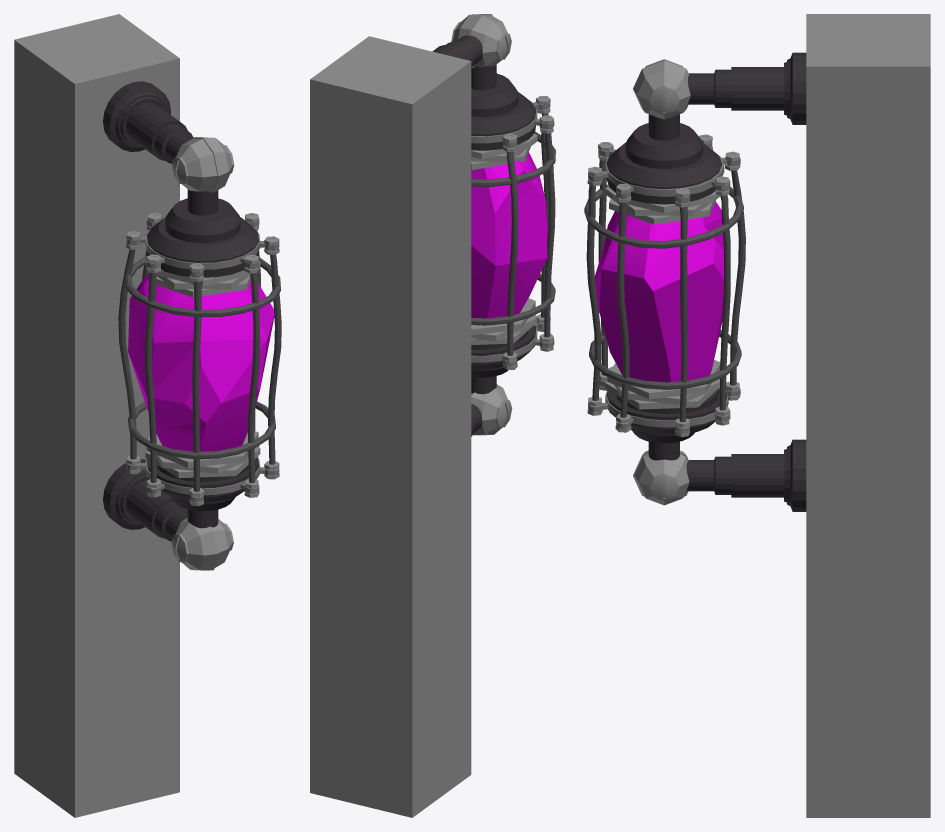
File: mesh_crystalLight_1.fbx
The picture shows the model from 3 angles, left to right: view 1: azimuth 30°, elevation 25°; view 2: azimuth 150°, elevation 25°; view 3: azimuth 270°, elevation 25°; orthographic projection. The views are drawn at different scales.
Visible parts, largest first — view 1: mesh_crystalLight_lightPost, mesh_crystalLight_frameHolder, mesh_crystalLight_crystal, mesh_crystalLight_cage, mesh_crystalLight_lightMetal, mesh_crystalLight_gyro_1, mesh_crystalLight_boltHolder, mesh_crystalLight_gyro_2, mesh_crystalLight_bolts; view 2: mesh_crystalLight_lightPost, mesh_crystalLight_crystal, mesh_crystalLight_frameHolder, mesh_crystalLight_cage, mesh_crystalLight_lightMetal, mesh_crystalLight_gyro_1, mesh_crystalLight_boltHolder, mesh_crystalLight_gyro_2, mesh_crystalLight_bolts; view 3: mesh_crystalLight_lightPost, mesh_crystalLight_frameHolder, mesh_crystalLight_crystal, mesh_crystalLight_cage, mesh_crystalLight_lightMetal, mesh_crystalLight_boltHolder, mesh_crystalLight_gyro_1, mesh_crystalLight_bolts, mesh_crystalLight_gyro_2.
Part boxes in pixels (box(x1,y1,x2,y2)): mesh_crystalLight_lightPost: box(14, 14, 179, 817); mesh_crystalLight_frameHolder: box(103, 81, 258, 541); mesh_crystalLight_crystal: box(128, 273, 274, 459); mesh_crystalLight_cage: box(118, 231, 281, 491); mesh_crystalLight_lightMetal: box(145, 261, 260, 478); mesh_crystalLight_gyro_1: box(172, 137, 234, 192); mesh_crystalLight_boltHolder: box(126, 218, 279, 502); mesh_crystalLight_gyro_2: box(171, 518, 233, 570); mesh_crystalLight_bolts: box(126, 213, 279, 506); mesh_crystalLight_lightPost: box(310, 36, 471, 817); mesh_crystalLight_crystal: box(471, 152, 548, 325); mesh_crystalLight_frameHolder: box(432, 35, 535, 436); mesh_crystalLight_cage: box(471, 113, 555, 355); mesh_crystalLight_lightMetal: box(471, 133, 537, 344); mesh_crystalLight_gyro_1: box(451, 14, 511, 67); mesh_crystalLight_boltHolder: box(471, 102, 554, 366); mesh_crystalLight_gyro_2: box(471, 384, 512, 435); mesh_crystalLight_bolts: box(503, 96, 553, 369); mesh_crystalLight_lightPost: box(806, 14, 930, 817); mesh_crystalLight_frameHolder: box(606, 52, 806, 511); mesh_crystalLight_crystal: box(594, 201, 723, 382); mesh_crystalLight_cage: box(584, 160, 745, 422); mesh_crystalLight_lightMetal: box(605, 186, 720, 409); mesh_crystalLight_boltHolder: box(588, 141, 740, 433); mesh_crystalLight_gyro_1: box(633, 59, 690, 119); mesh_crystalLight_bolts: box(587, 134, 740, 437); mesh_crystalLight_gyro_2: box(633, 450, 689, 505).
Size of the model in its own units: 39.3 by 200 by 83.59.
